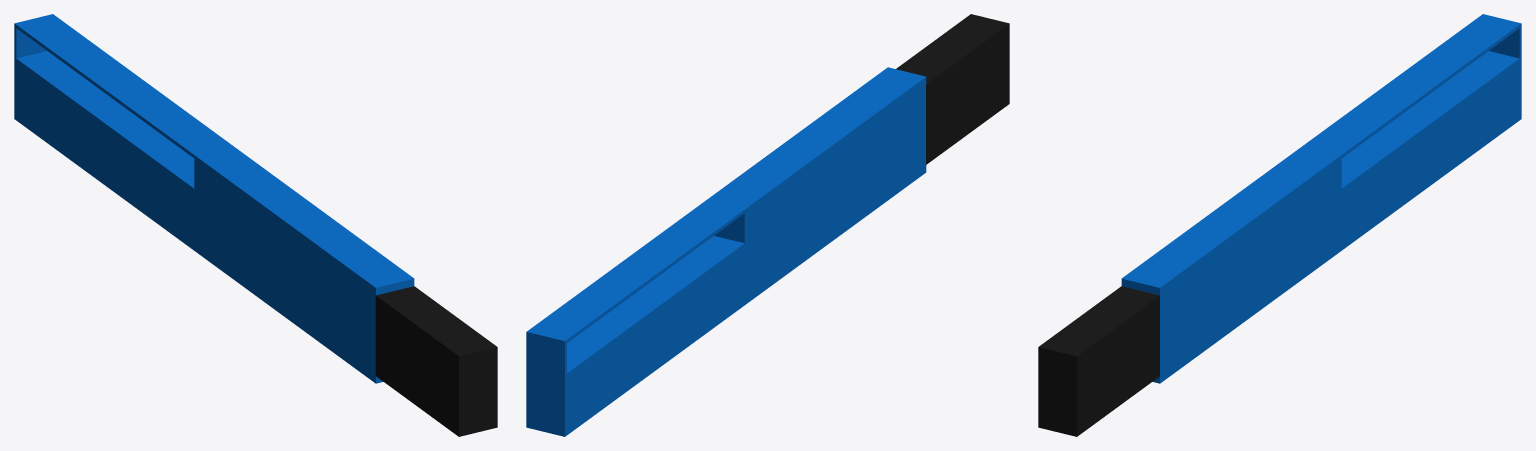
Rendered from realsense_r200_fixed_dim.dae.
3 renders of one model, left to right at view 1: azimuth 30°, elevation 25°; view 2: azimuth 150°, elevation 25°; view 3: azimuth 330°, elevation 25°, orthographic.
Parts seen in each view (by area): view 1: Cube, Cube_001; view 2: Cube, Cube_001; view 3: Cube, Cube_001.
Boxes of the visible parts, x1,y1,x2,y2 form: Cube: (14, 14, 414, 383); Cube_001: (375, 286, 497, 436); Cube: (526, 67, 926, 436); Cube_001: (896, 14, 1009, 164); Cube: (1121, 14, 1521, 383); Cube_001: (1038, 286, 1159, 436).
Size of the model in its own units: 0.008 by 0.1599 by 0.019.
